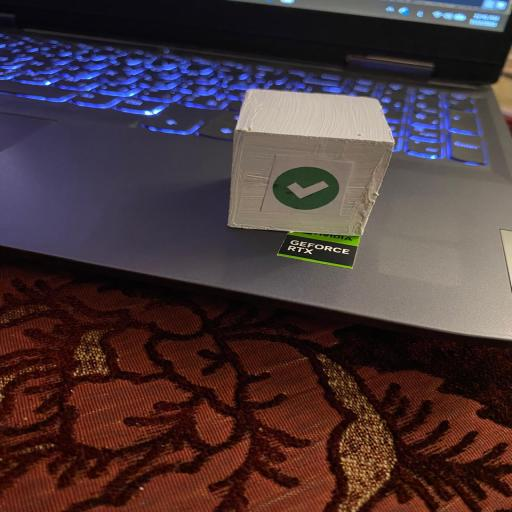Confirm: (223, 89, 396, 238)
